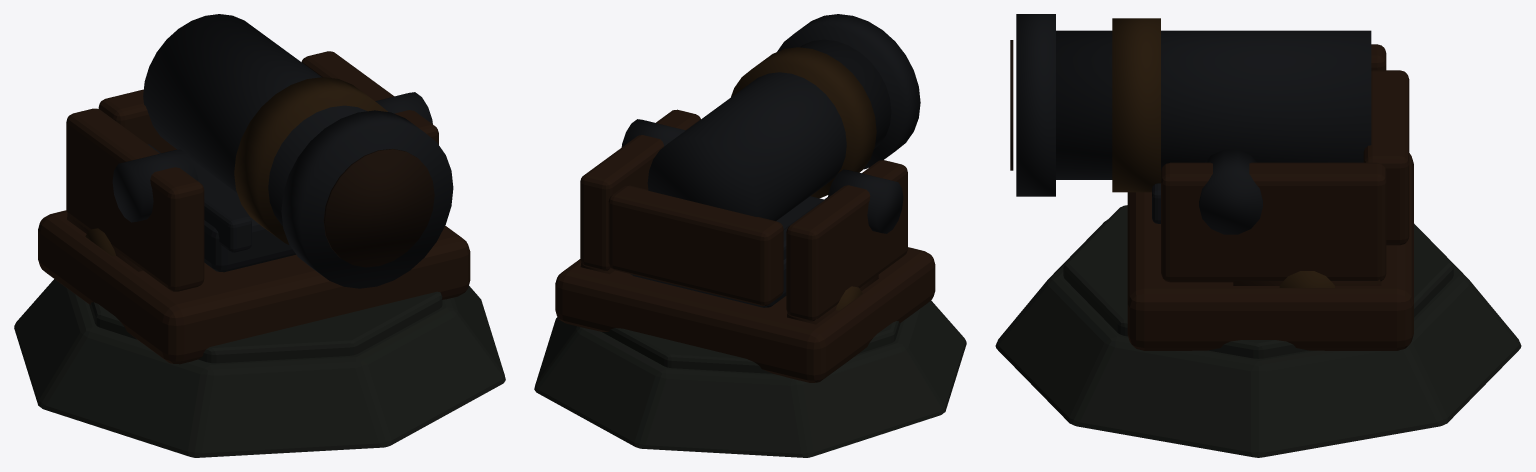
The model's file is TowerSiege1_pose.obj.
3 renders of one model, left to right at view 1: azimuth 30°, elevation 25°; view 2: azimuth 150°, elevation 25°; view 3: azimuth 270°, elevation 25°, orthographic. The views are drawn at different scales.
Parts seen in each view (by area): view 1: limestone_socket_lower_course, oak_carriage, forged_mortar_barrel, carriage_cheek, black_muzzle_rim, dark_bore, limestone_socket_upper_course, bronze_reinforce_collar, iron_cradle, iron_trunnion, carriage_cheek.001, iron_carriage_brace (+2 smaller); view 2: limestone_socket_lower_course, oak_carriage, forged_mortar_barrel, recoil_stop, carriage_cheek, black_muzzle_rim, bronze_reinforce_collar, carriage_cheek.001, limestone_socket_upper_course, iron_trunnion, iron_cradle, iron_trunnion.001; view 3: limestone_socket_lower_course, forged_mortar_barrel, carriage_cheek.001, oak_carriage, bronze_reinforce_collar, limestone_socket_upper_course, black_muzzle_rim, recoil_stop, iron_trunnion.001, bronze_hub.001, dark_bore.
Part boxes in pixels (left/top/right/bottom): limestone_socket_lower_course: left=14, top=279, right=505, bottom=457; oak_carriage: left=38, top=210, right=470, bottom=364; forged_mortar_barrel: left=143, top=14, right=366, bottom=225; carriage_cheek: left=66, top=108, right=204, bottom=291; black_muzzle_rim: left=281, top=110, right=453, bottom=288; dark_bore: left=323, top=149, right=434, bottom=267; limestone_socket_upper_course: left=89, top=291, right=442, bottom=363; bronze_reinforce_collar: left=234, top=77, right=387, bottom=244; iron_cradle: left=191, top=160, right=295, bottom=272; iron_trunnion: left=112, top=149, right=198, bottom=222; carriage_cheek.001: left=301, top=51, right=438, bottom=144; iron_carriage_brace: left=148, top=144, right=251, bottom=252; limestone_socket_lower_course: left=534, top=300, right=966, bottom=457; oak_carriage: left=555, top=247, right=935, bottom=382; forged_mortar_barrel: left=647, top=39, right=891, bottom=220; recoil_stop: left=608, top=185, right=783, bottom=306; carriage_cheek: left=786, top=160, right=907, bottom=321; black_muzzle_rim: left=777, top=14, right=920, bottom=169; bronze_reinforce_collar: left=731, top=47, right=876, bottom=198; carriage_cheek.001: left=580, top=109, right=700, bottom=270; limestone_socket_upper_course: left=602, top=321, right=900, bottom=373; iron_trunnion: left=828, top=169, right=903, bottom=233; iron_cradle: left=630, top=196, right=823, bottom=307; iron_trunnion.001: left=621, top=119, right=685, bottom=147; limestone_socket_lower_course: left=995, top=219, right=1521, bottom=457; forged_mortar_barrel: left=1056, top=30, right=1371, bottom=179; carriage_cheek.001: left=1161, top=162, right=1386, bottom=282; oak_carriage: left=1127, top=153, right=1413, bottom=350; bronze_reinforce_collar: left=1112, top=18, right=1160, bottom=192; limestone_socket_upper_course: left=1063, top=205, right=1453, bottom=358; black_muzzle_rim: left=1016, top=14, right=1055, bottom=196; recoil_stop: left=1363, top=70, right=1409, bottom=245; iron_trunnion.001: left=1199, top=149, right=1262, bottom=234; bronze_hub.001: left=1279, top=271, right=1334, bottom=287; dark_bore: left=1010, top=40, right=1013, bottom=170.
Size of the model in its own units: 1.73 by 1.18 by 1.73.
